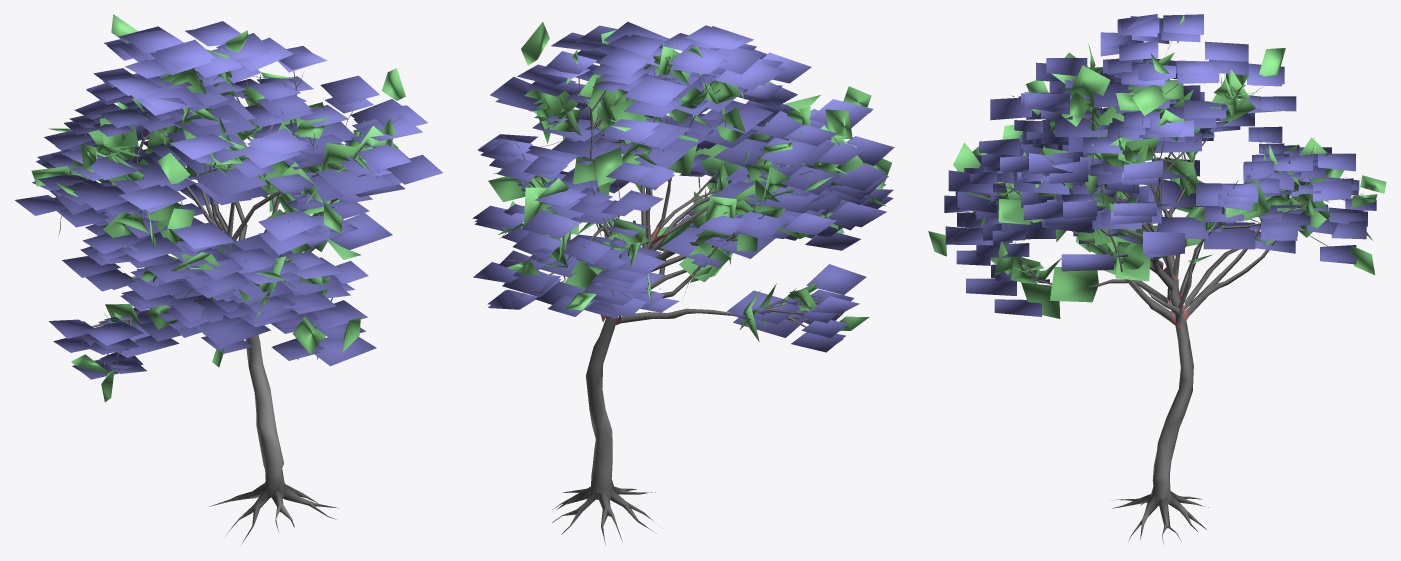
File: SM_SeamangoA.gltf
The picture shows the model from 3 angles, left to right: view 1: azimuth 30°, elevation 25°; view 2: azimuth 150°, elevation 25°; view 3: azimuth 270°, elevation 25°; orthographic projection. The views are drawn at different scales.
Visible parts, largest first — view 1: SM_SeamangoA; view 2: SM_SeamangoA; view 3: SM_SeamangoA.
Part boxes in pixels (box(x1,y1,x2,y2)): SM_SeamangoA: box(15, 14, 442, 544); SM_SeamangoA: box(472, 22, 894, 545); SM_SeamangoA: box(928, 14, 1386, 543).
Bounding box in the file's own units: 2.92 × 4.07 × 3.65.
